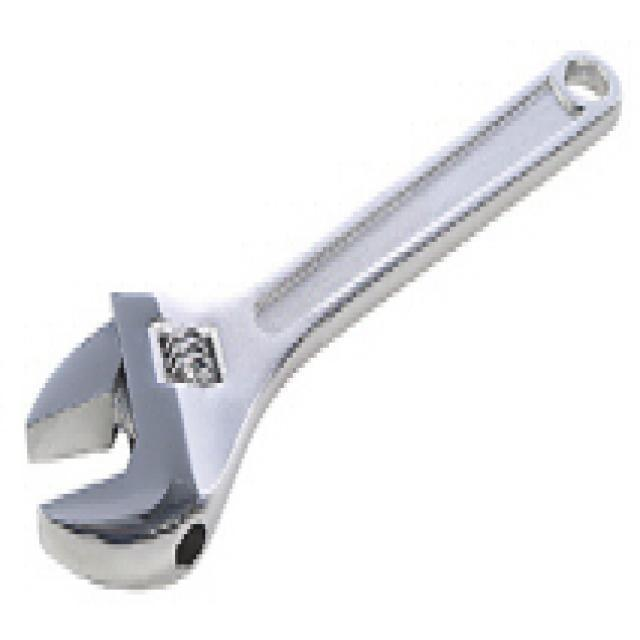wrench: (20, 41, 626, 596)
